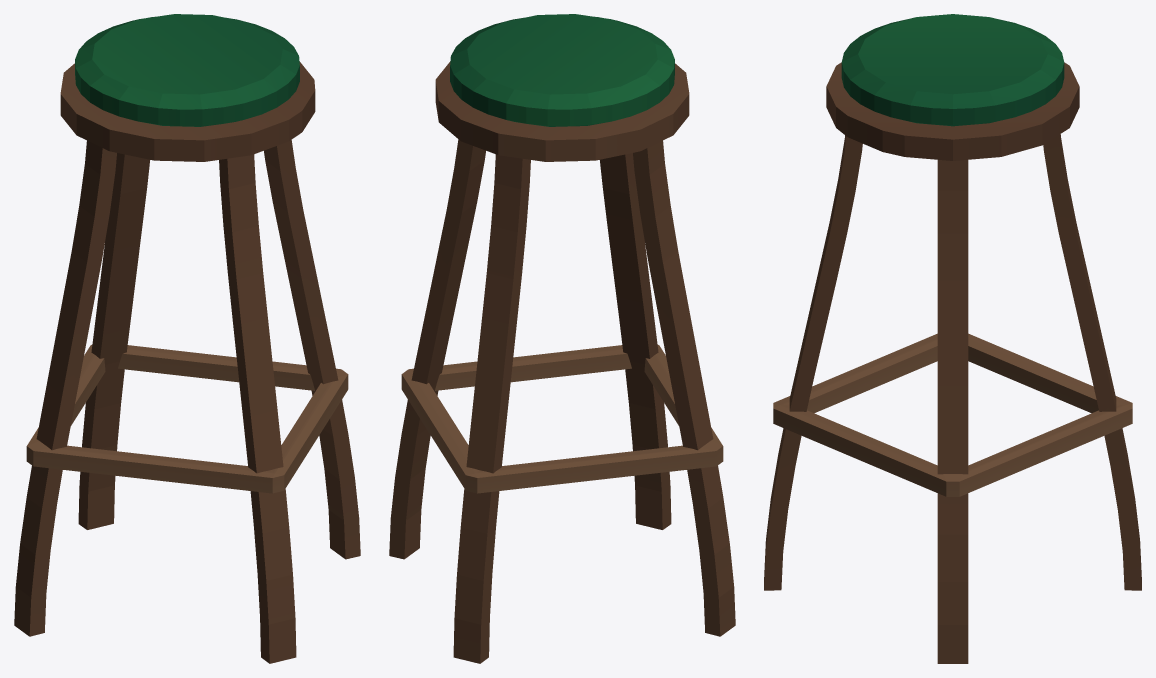
The model's file is stool.fbx.
3 renders of one model, left to right at view 1: azimuth 30°, elevation 25°; view 2: azimuth 150°, elevation 25°; view 3: azimuth 270°, elevation 25°, orthographic.
Parts seen in each view (by area): view 1: Cube.005, Cylinder.001, Cube.006, Cylinder; view 2: Cube.005, Cylinder.001, Cube.006, Cylinder; view 3: Cube.005, Cylinder.001, Cube.006, Cylinder.
Part boxes in pixels (x1=…): Cube.005: x1=14, y1=140, x2=360, y2=663; Cylinder.001: x1=75, y1=14, x2=299, y2=126; Cube.006: x1=26, y1=345, x2=348, y2=493; Cylinder: x1=60, y1=61, x2=315, y2=161; Cube.005: x1=389, y1=139, x2=735, y2=663; Cylinder.001: x1=450, y1=14, x2=674, y2=126; Cube.006: x1=401, y1=345, x2=723, y2=493; Cylinder: x1=435, y1=61, x2=689, y2=161; Cube.005: x1=764, y1=134, x2=1141, y2=663; Cylinder.001: x1=841, y1=14, x2=1064, y2=126; Cube.006: x1=773, y1=333, x2=1132, y2=496; Cylinder: x1=826, y1=62, x2=1079, y2=160.
Size of the model in its own units: 448 by 693 by 448.
